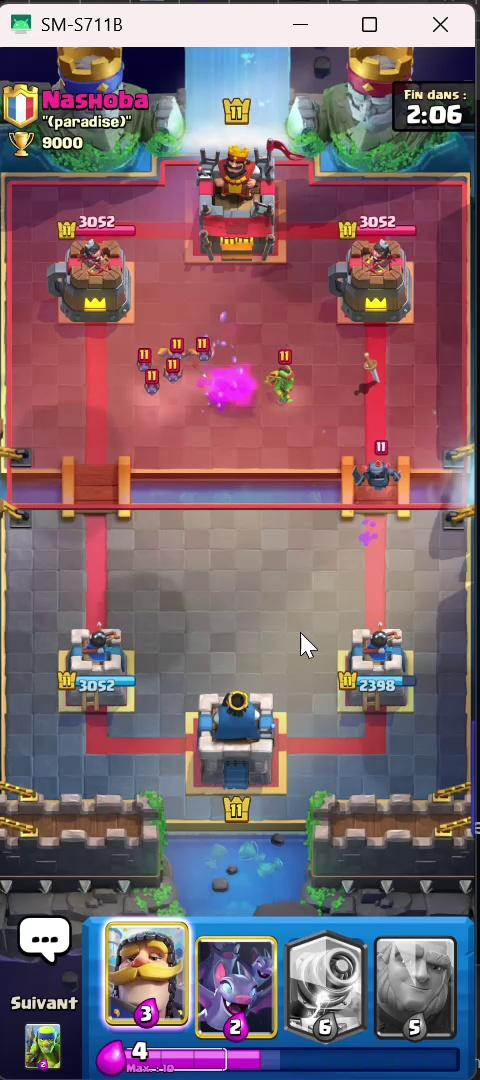bat: (188, 327, 220, 374), (127, 371, 164, 403), (130, 344, 159, 381), (157, 336, 191, 367), (163, 360, 181, 388)
gobelin_lances: (264, 353, 302, 413)
mini_PEKKA: (342, 445, 421, 497)
